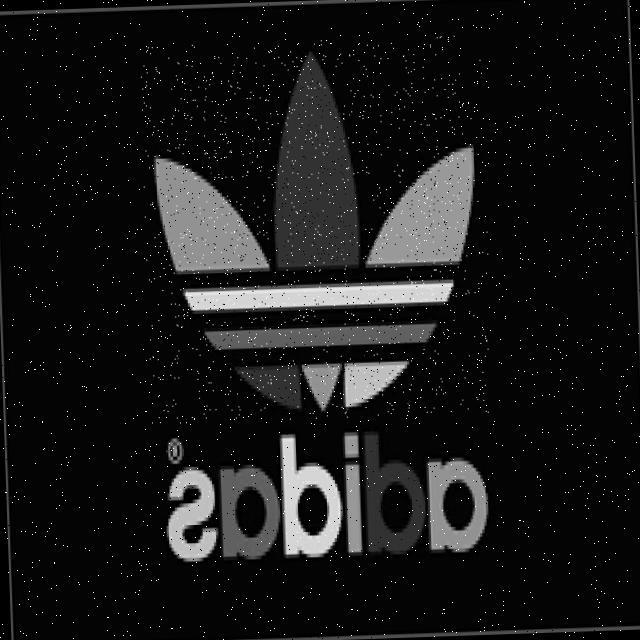Adidas: (139, 34, 494, 424)
